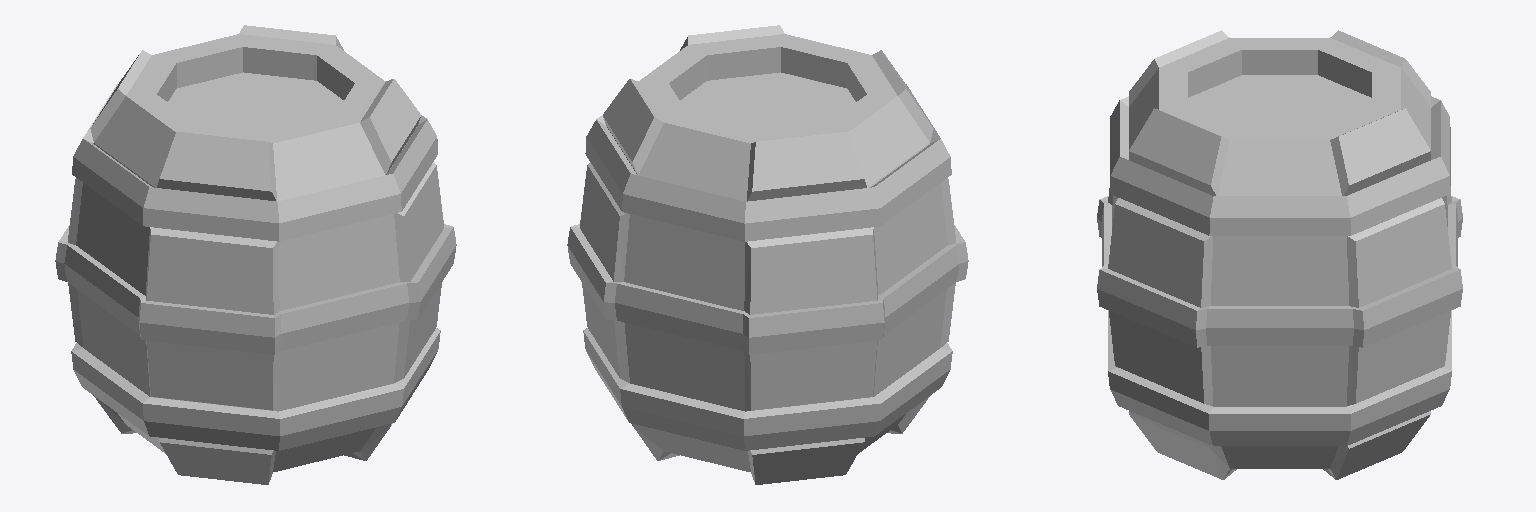
The model's file is barril.obj.
3 renders of one model, left to right at view 1: azimuth 30°, elevation 25°; view 2: azimuth 150°, elevation 25°; view 3: azimuth 270°, elevation 25°, orthographic.
Parts seen in each view (by area): view 1: Barril_1.001_Cube.001; view 2: Barril_1.001_Cube.001; view 3: Barril_1.001_Cube.001.
Boxes of the visible parts, box(x1,y1,x2,y2) form: Barril_1.001_Cube.001: box(55, 25, 456, 484); Barril_1.001_Cube.001: box(567, 25, 968, 484); Barril_1.001_Cube.001: box(1097, 30, 1462, 479).
Size of the model in its own units: 1.19 by 1.24 by 1.19.